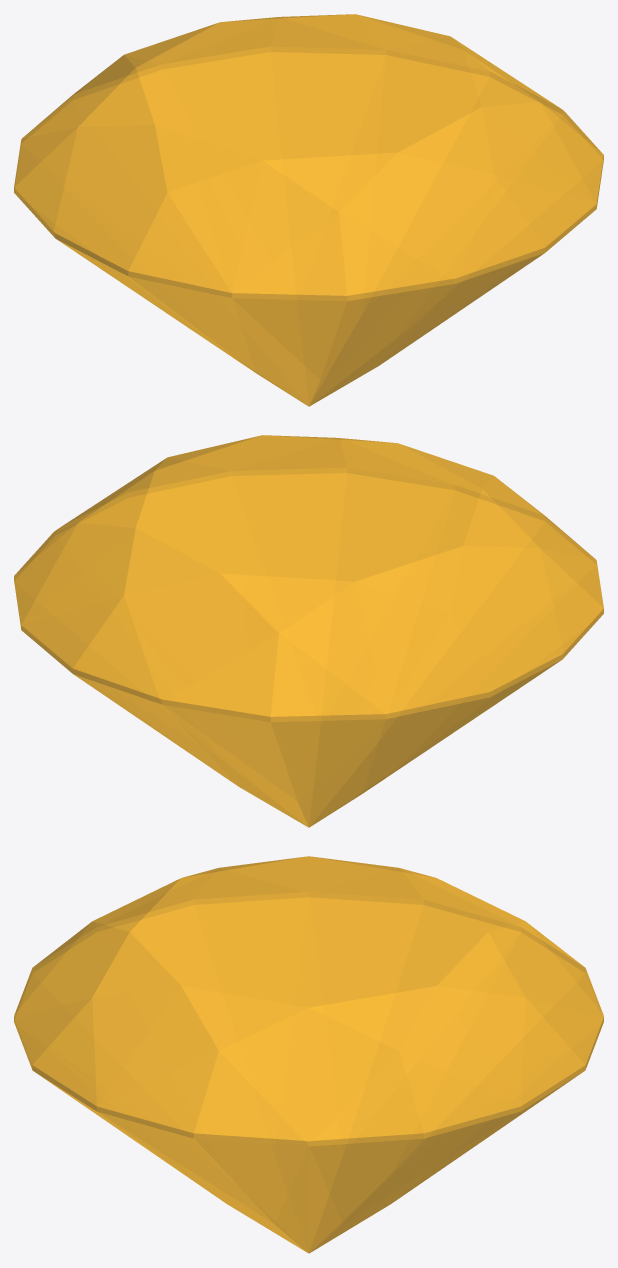
File: round citrine.glb
The picture shows the model from 3 angles, top to bottom: view 1: azimuth 30°, elevation 25°; view 2: azimuth 150°, elevation 25°; view 3: azimuth 270°, elevation 25°; orthographic projection.
Visible parts, largest first — view 1: White_1_11.008; view 2: White_1_11.008; view 3: White_1_11.008.
Part boxes in pixels (box(x1,y1,x2,y2)): White_1_11.008: box(14, 14, 603, 406); White_1_11.008: box(14, 435, 603, 827); White_1_11.008: box(14, 856, 603, 1253).
Size of the model in its own units: 1.75 by 1.05 by 1.75.
